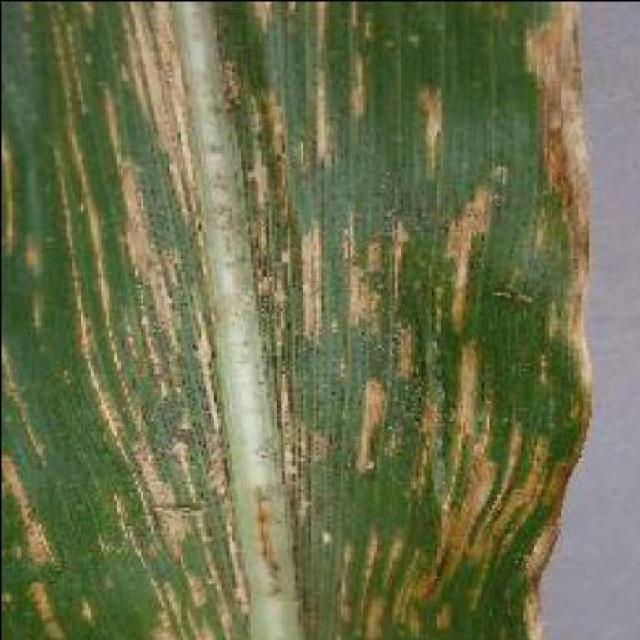Corn_Grey_Leaf_Spot: (6, 6, 585, 640)
